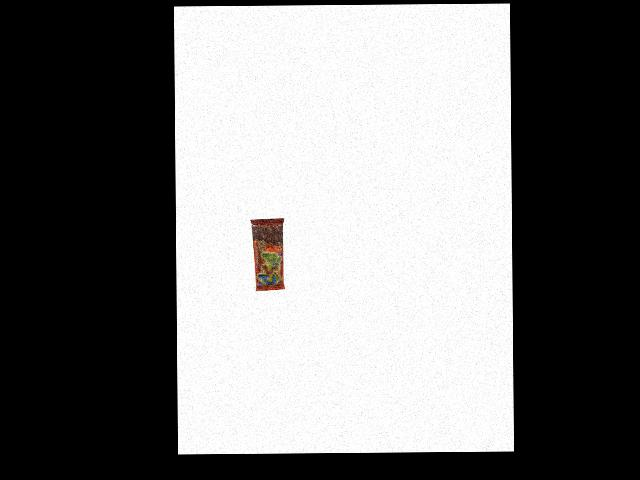chocolate: (251, 218, 284, 291)
